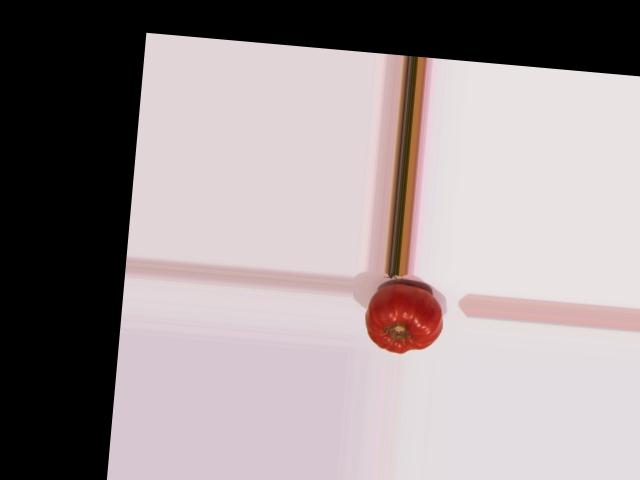tomato: (363, 281, 445, 356)
